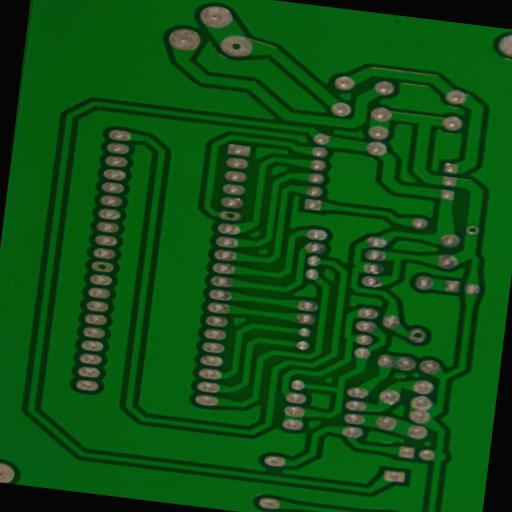missing_hole: (410, 330, 424, 340), (464, 226, 478, 235), (228, 42, 242, 51), (94, 262, 108, 271), (223, 211, 236, 220)
